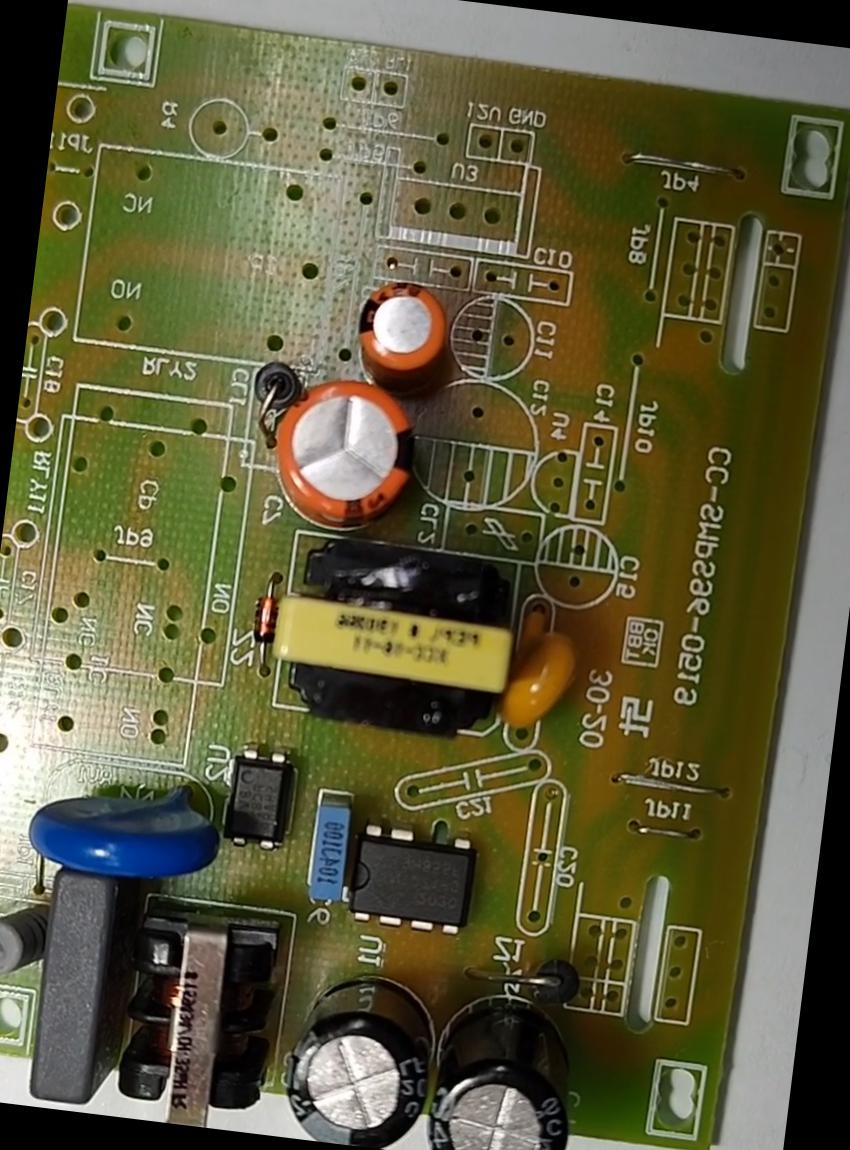Cap1: (245, 354, 446, 545)
Cap2: (342, 264, 472, 404)
Cap3: (274, 952, 460, 1149)
Cap4: (411, 955, 597, 1149)
MOSFET: (334, 810, 492, 938)
Mov: (15, 760, 239, 902)
Resistor: (0, 883, 66, 998)
Transformer: (259, 533, 542, 751), (106, 894, 291, 1134)
